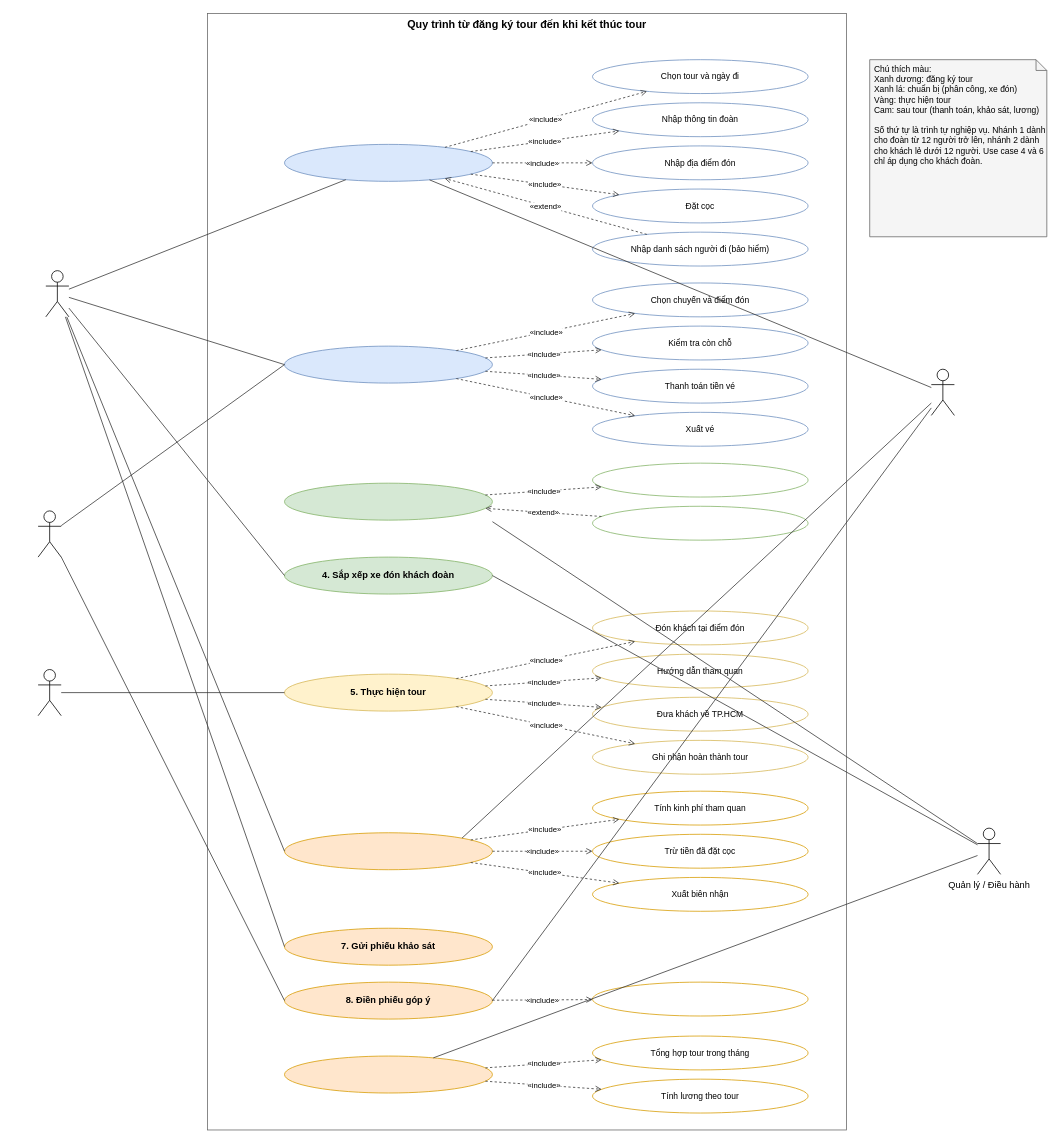
This 1060x1143 diagram has some shape labels left out. The centre of each missing label's shape, as x and y in pixels:
1. Đăng ký tour theo đoàn: the point at 388,162
2. Đăng ký tour theo chuyến: the point at 388,364
3. Phân công hướng dẫn viên: the point at 388,501
6. Thanh toán kinh phí tour đoàn: the point at 388,851
9. Tính lương hướng dẫn viên: the point at 388,1074
Ghi nhận góp ý: the point at 700,998
Khách lẻ: the point at 49,533
Khách đoàn: the point at 942,391
Kiểm tra trùng lịch: the point at 700,479
NV hướng dẫn: the point at 49,692
NV tiếp nhận / bán vé: the point at 57,293
Phân công thêm HDV (đoàn đông): the point at 700,523
